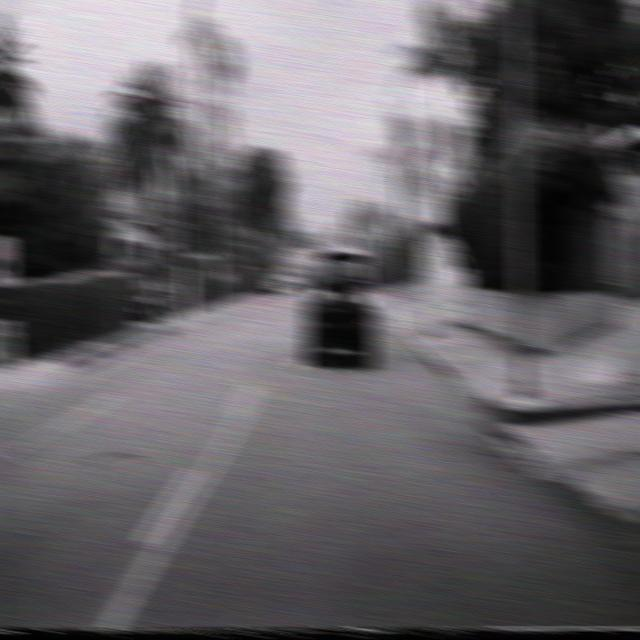pedestrianCrossing: (400, 152, 441, 218)
